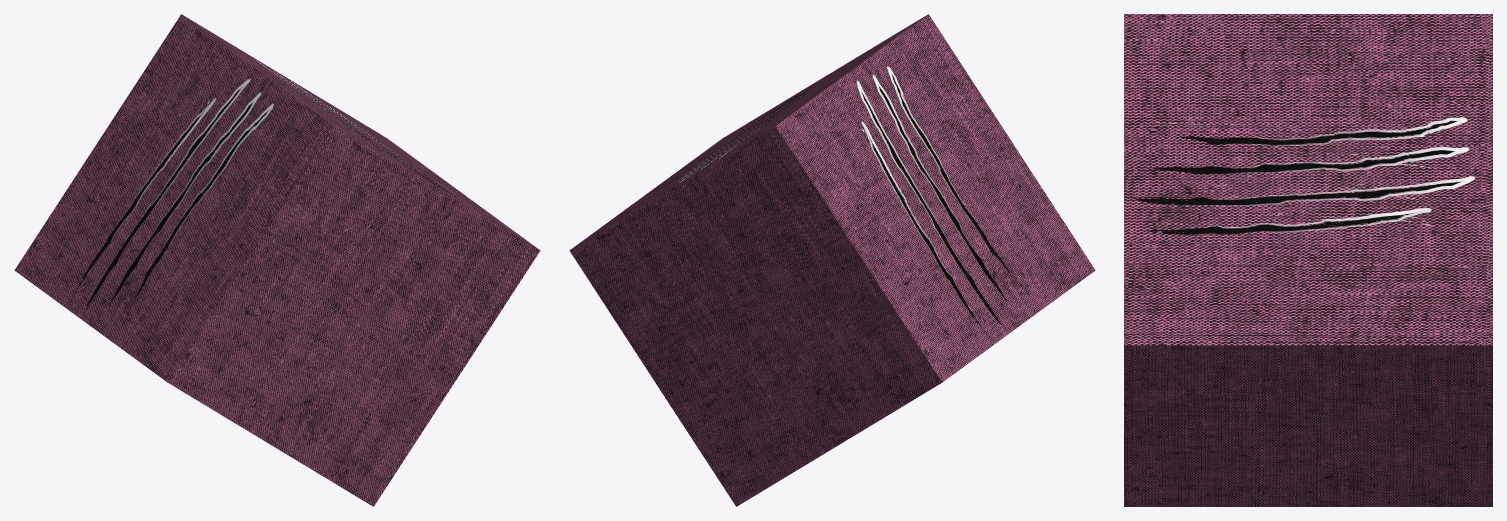
Rendered from torn_Cube_Two_Side.fbx.
The picture shows the model from 3 angles, left to right: view 1: azimuth 30°, elevation 25°; view 2: azimuth 150°, elevation 25°; view 3: azimuth 270°, elevation 25°; orthographic projection. The views are drawn at different scales.
Visible parts, largest first — view 1: both_Torn_Cube_02; view 2: both_Torn_Cube_02; view 3: both_Torn_Cube_02.
Part boxes in pixels (left/top/right/bottom): both_Torn_Cube_02: left=14, top=14, right=540, bottom=506; both_Torn_Cube_02: left=569, top=14, right=1095, bottom=506; both_Torn_Cube_02: left=1124, top=14, right=1492, bottom=506.
Bounding box in the file's own units: 1.41 × 1.41 × 1.
Materials: 3 (3 with a texture image).
